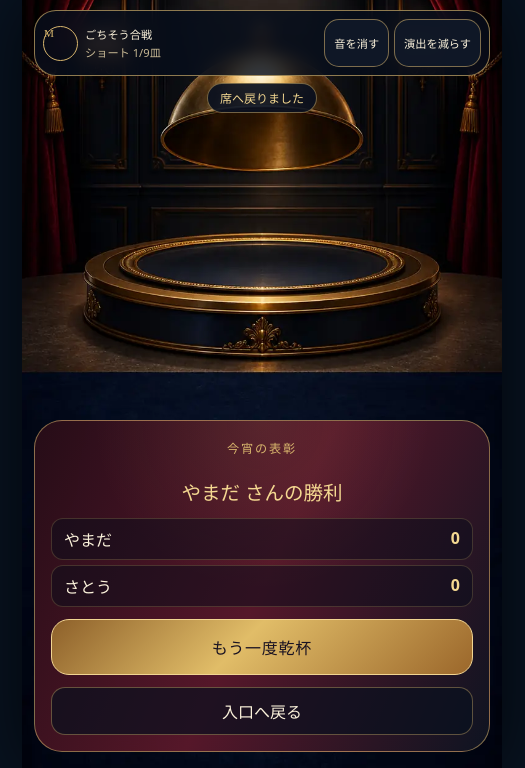
online banquet lobby › opens a fresh private hand when the host starts a rematch
Click the button "もう一度乾杯" at (262, 647), box [51, 619, 473, 675]
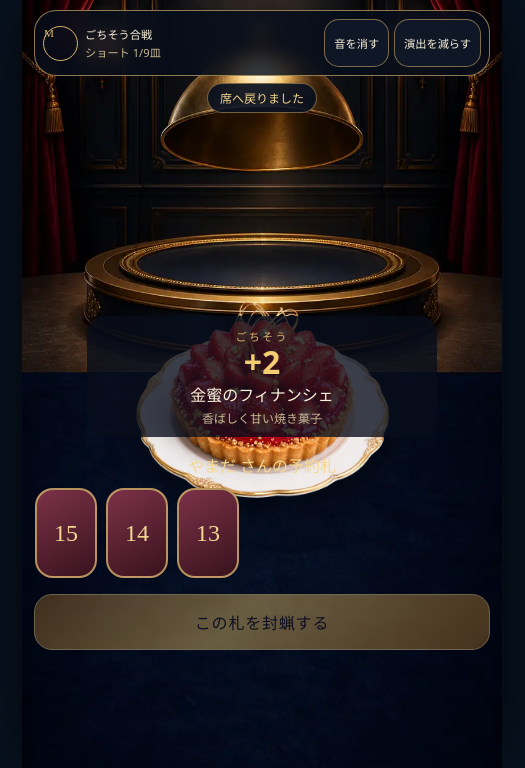
expect the text "やまだ さんの予約札" is shown: met, box [188, 455, 336, 477]
